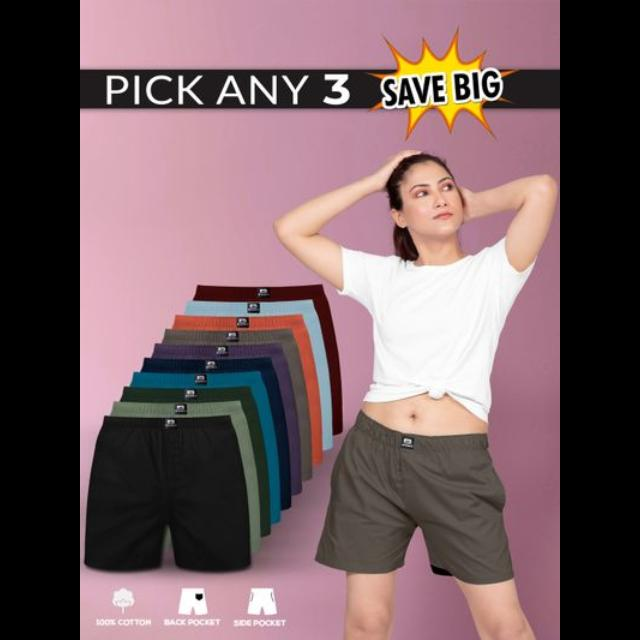bottom: (322, 420, 514, 582), (89, 414, 251, 572)
top: (337, 244, 525, 418)
